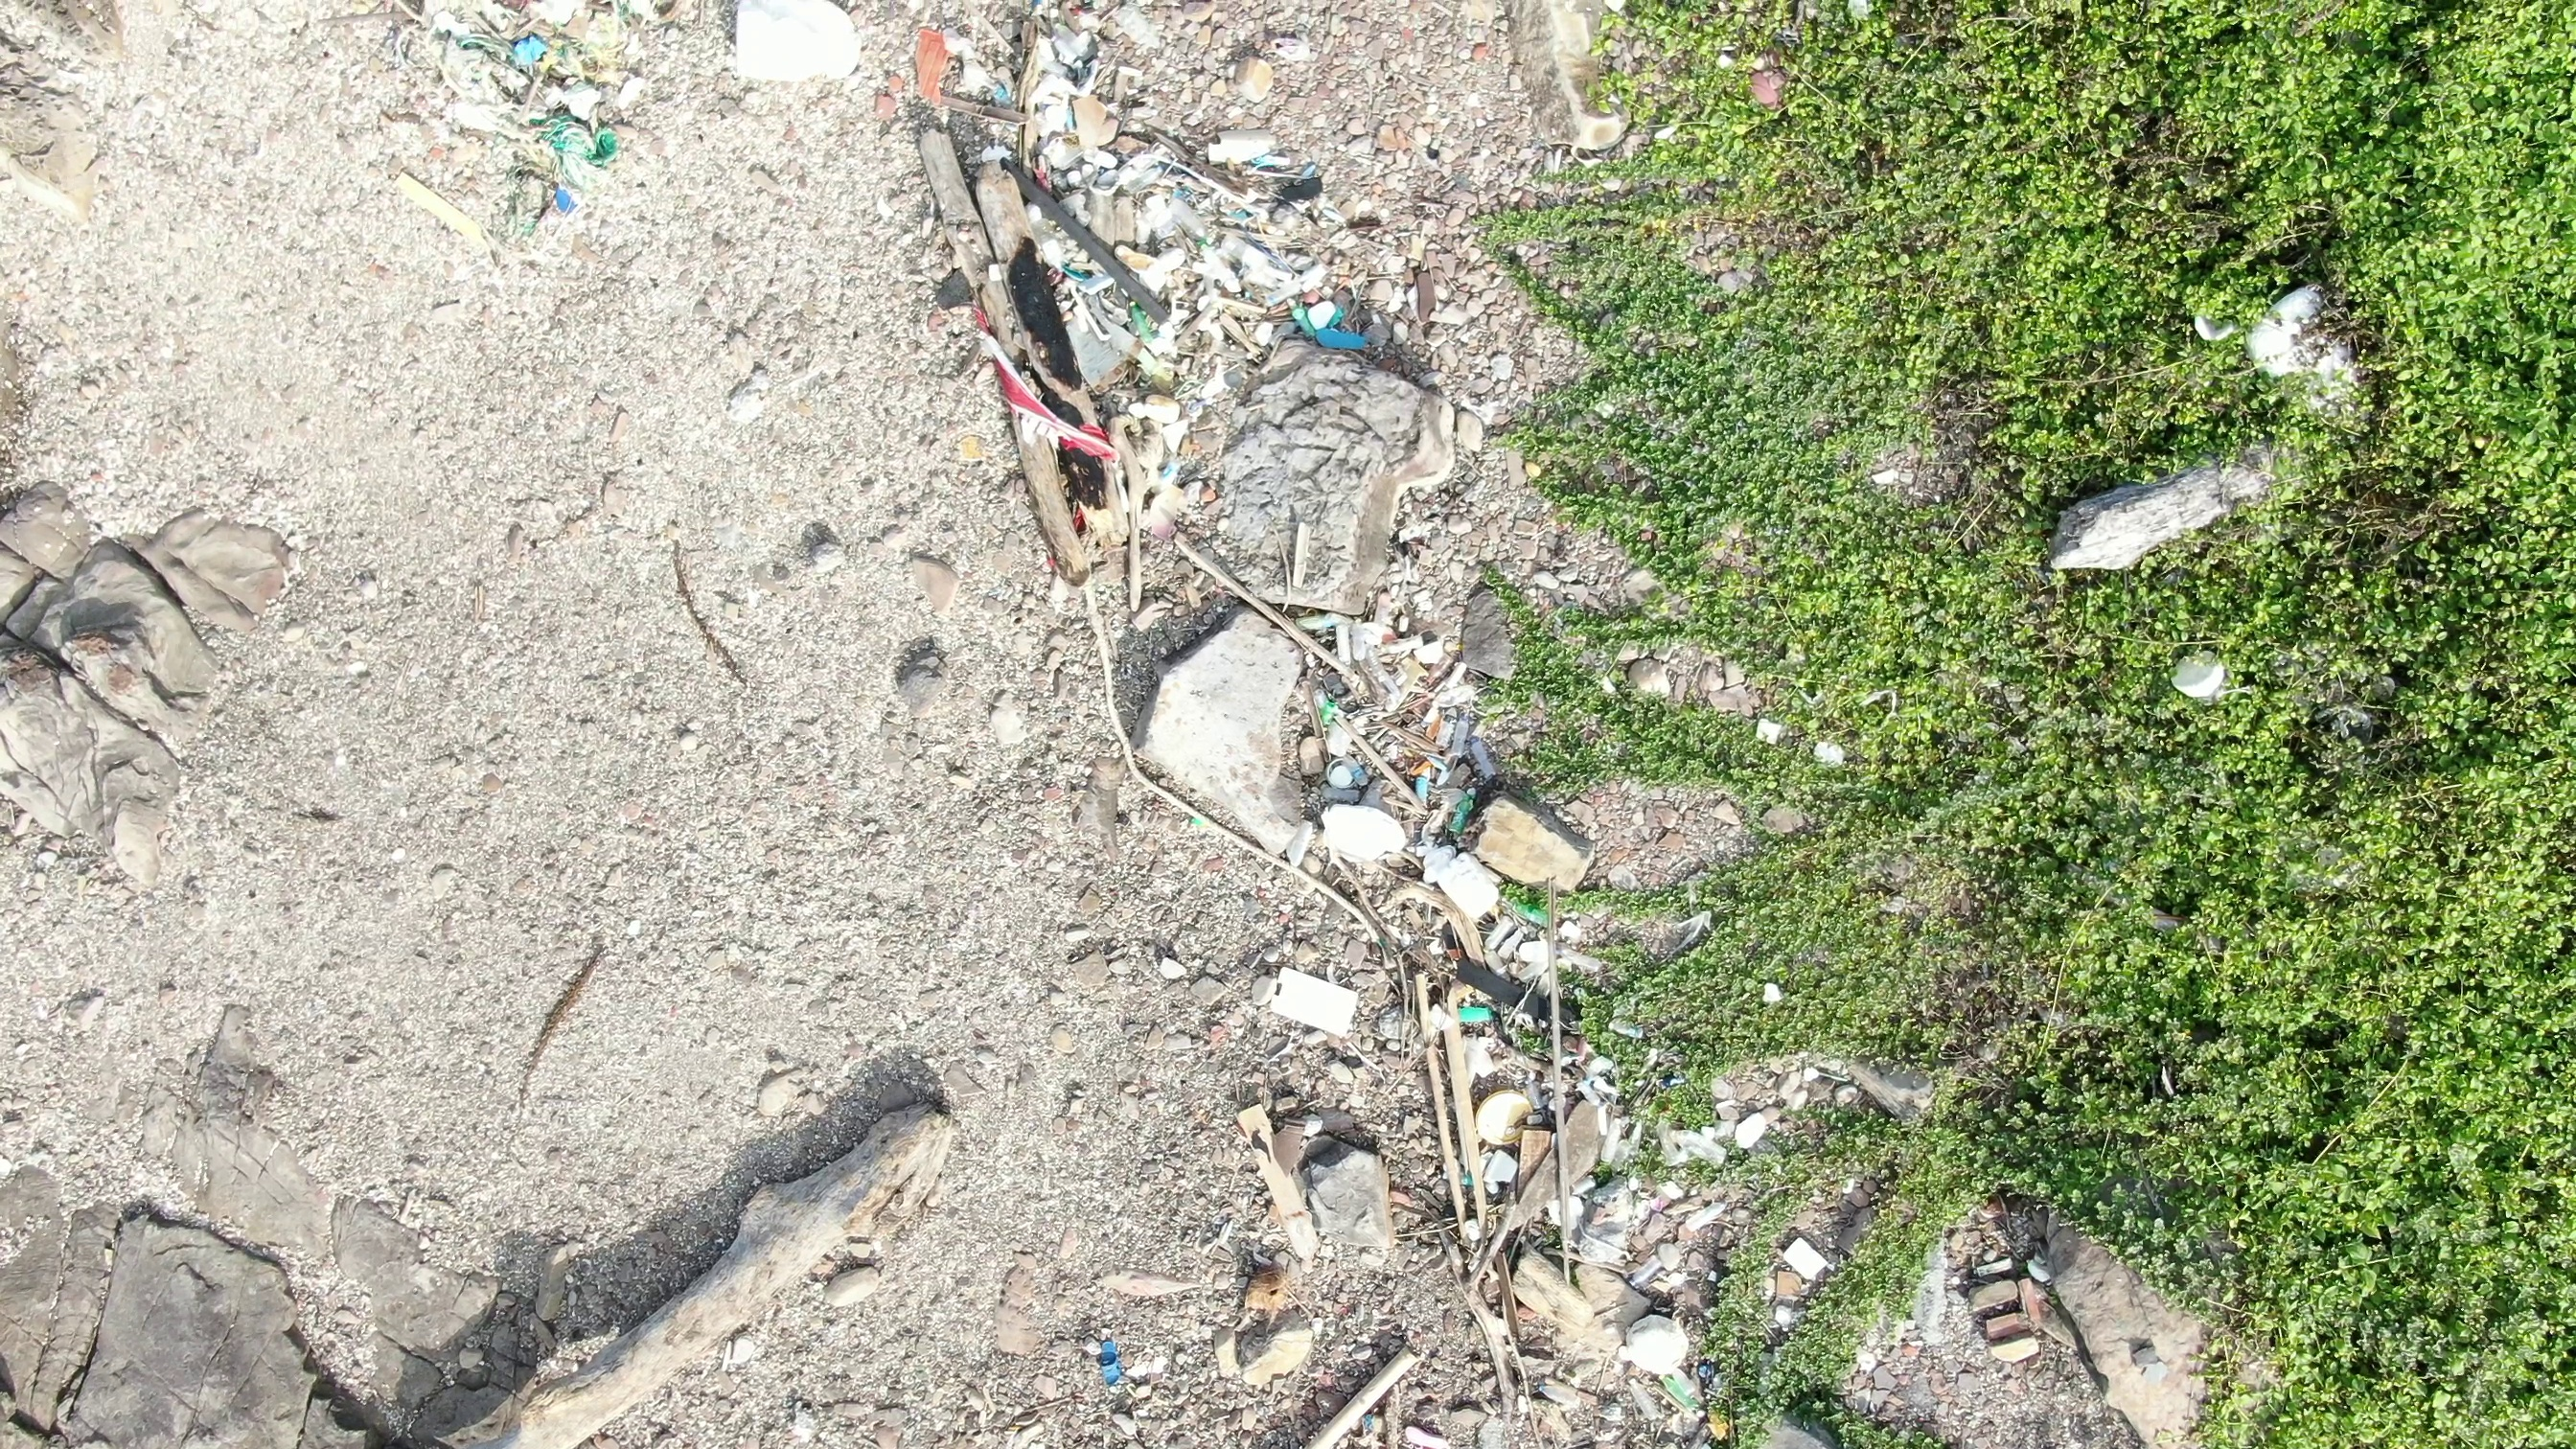garbage: (886, 9, 1410, 614), (1398, 897, 1762, 1449), (395, 2, 660, 255), (1270, 623, 1518, 893), (1076, 1330, 1136, 1414)
